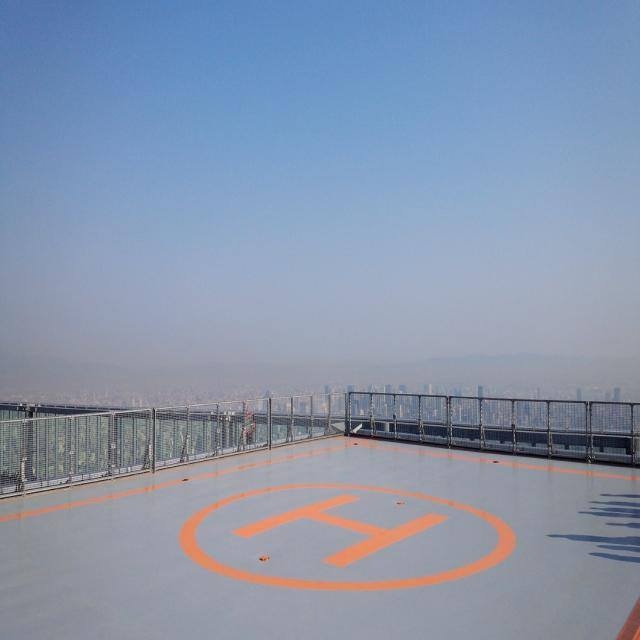helipad: (174, 473, 517, 595)
